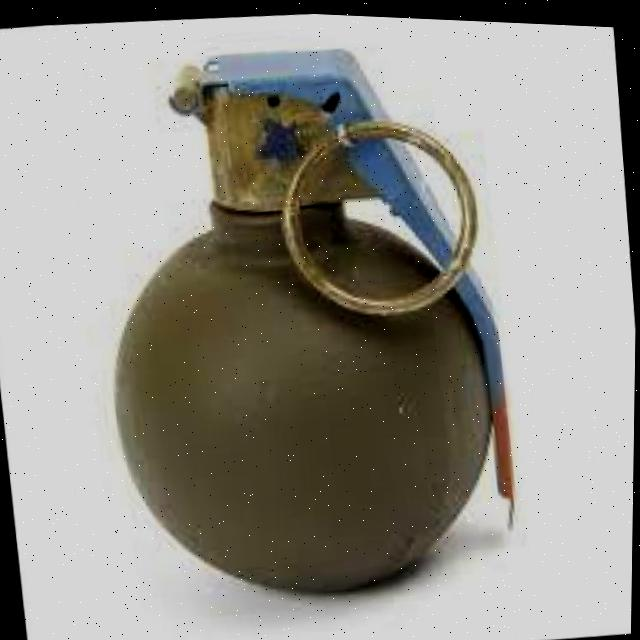grenade: (63, 9, 530, 620)
